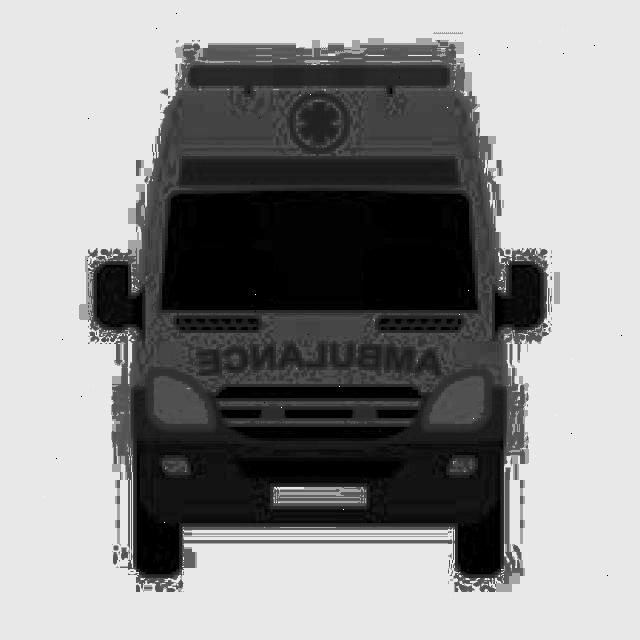LCV: (81, 65, 538, 528)
